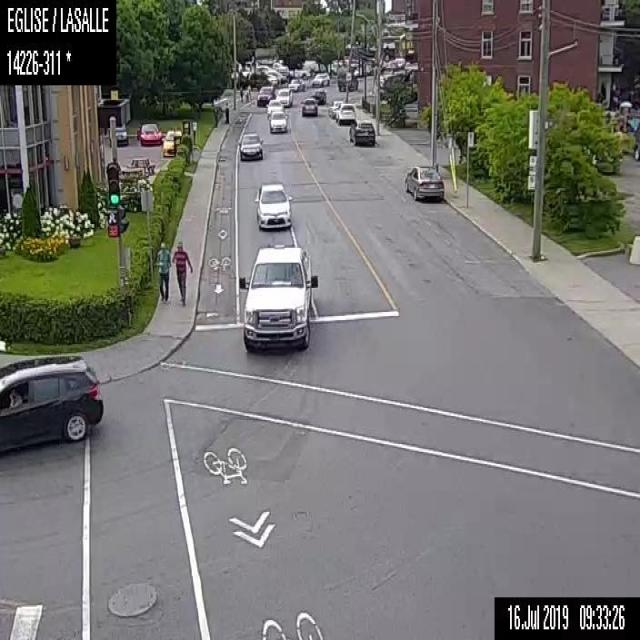pedestrian: (172, 240, 194, 304), (153, 239, 172, 304), (212, 102, 219, 126), (223, 100, 230, 124), (237, 84, 244, 103)
vehicle: (0, 351, 105, 457), (236, 241, 318, 352), (252, 181, 294, 231), (404, 164, 444, 201), (236, 130, 264, 162), (135, 118, 163, 146), (350, 119, 376, 145), (160, 127, 180, 155), (335, 70, 359, 90), (270, 108, 288, 134), (336, 102, 356, 124), (255, 82, 274, 104), (300, 96, 318, 117), (114, 125, 129, 148), (311, 70, 330, 88), (276, 86, 291, 108), (265, 97, 281, 116), (327, 99, 341, 117), (313, 89, 326, 105), (288, 78, 305, 90)
